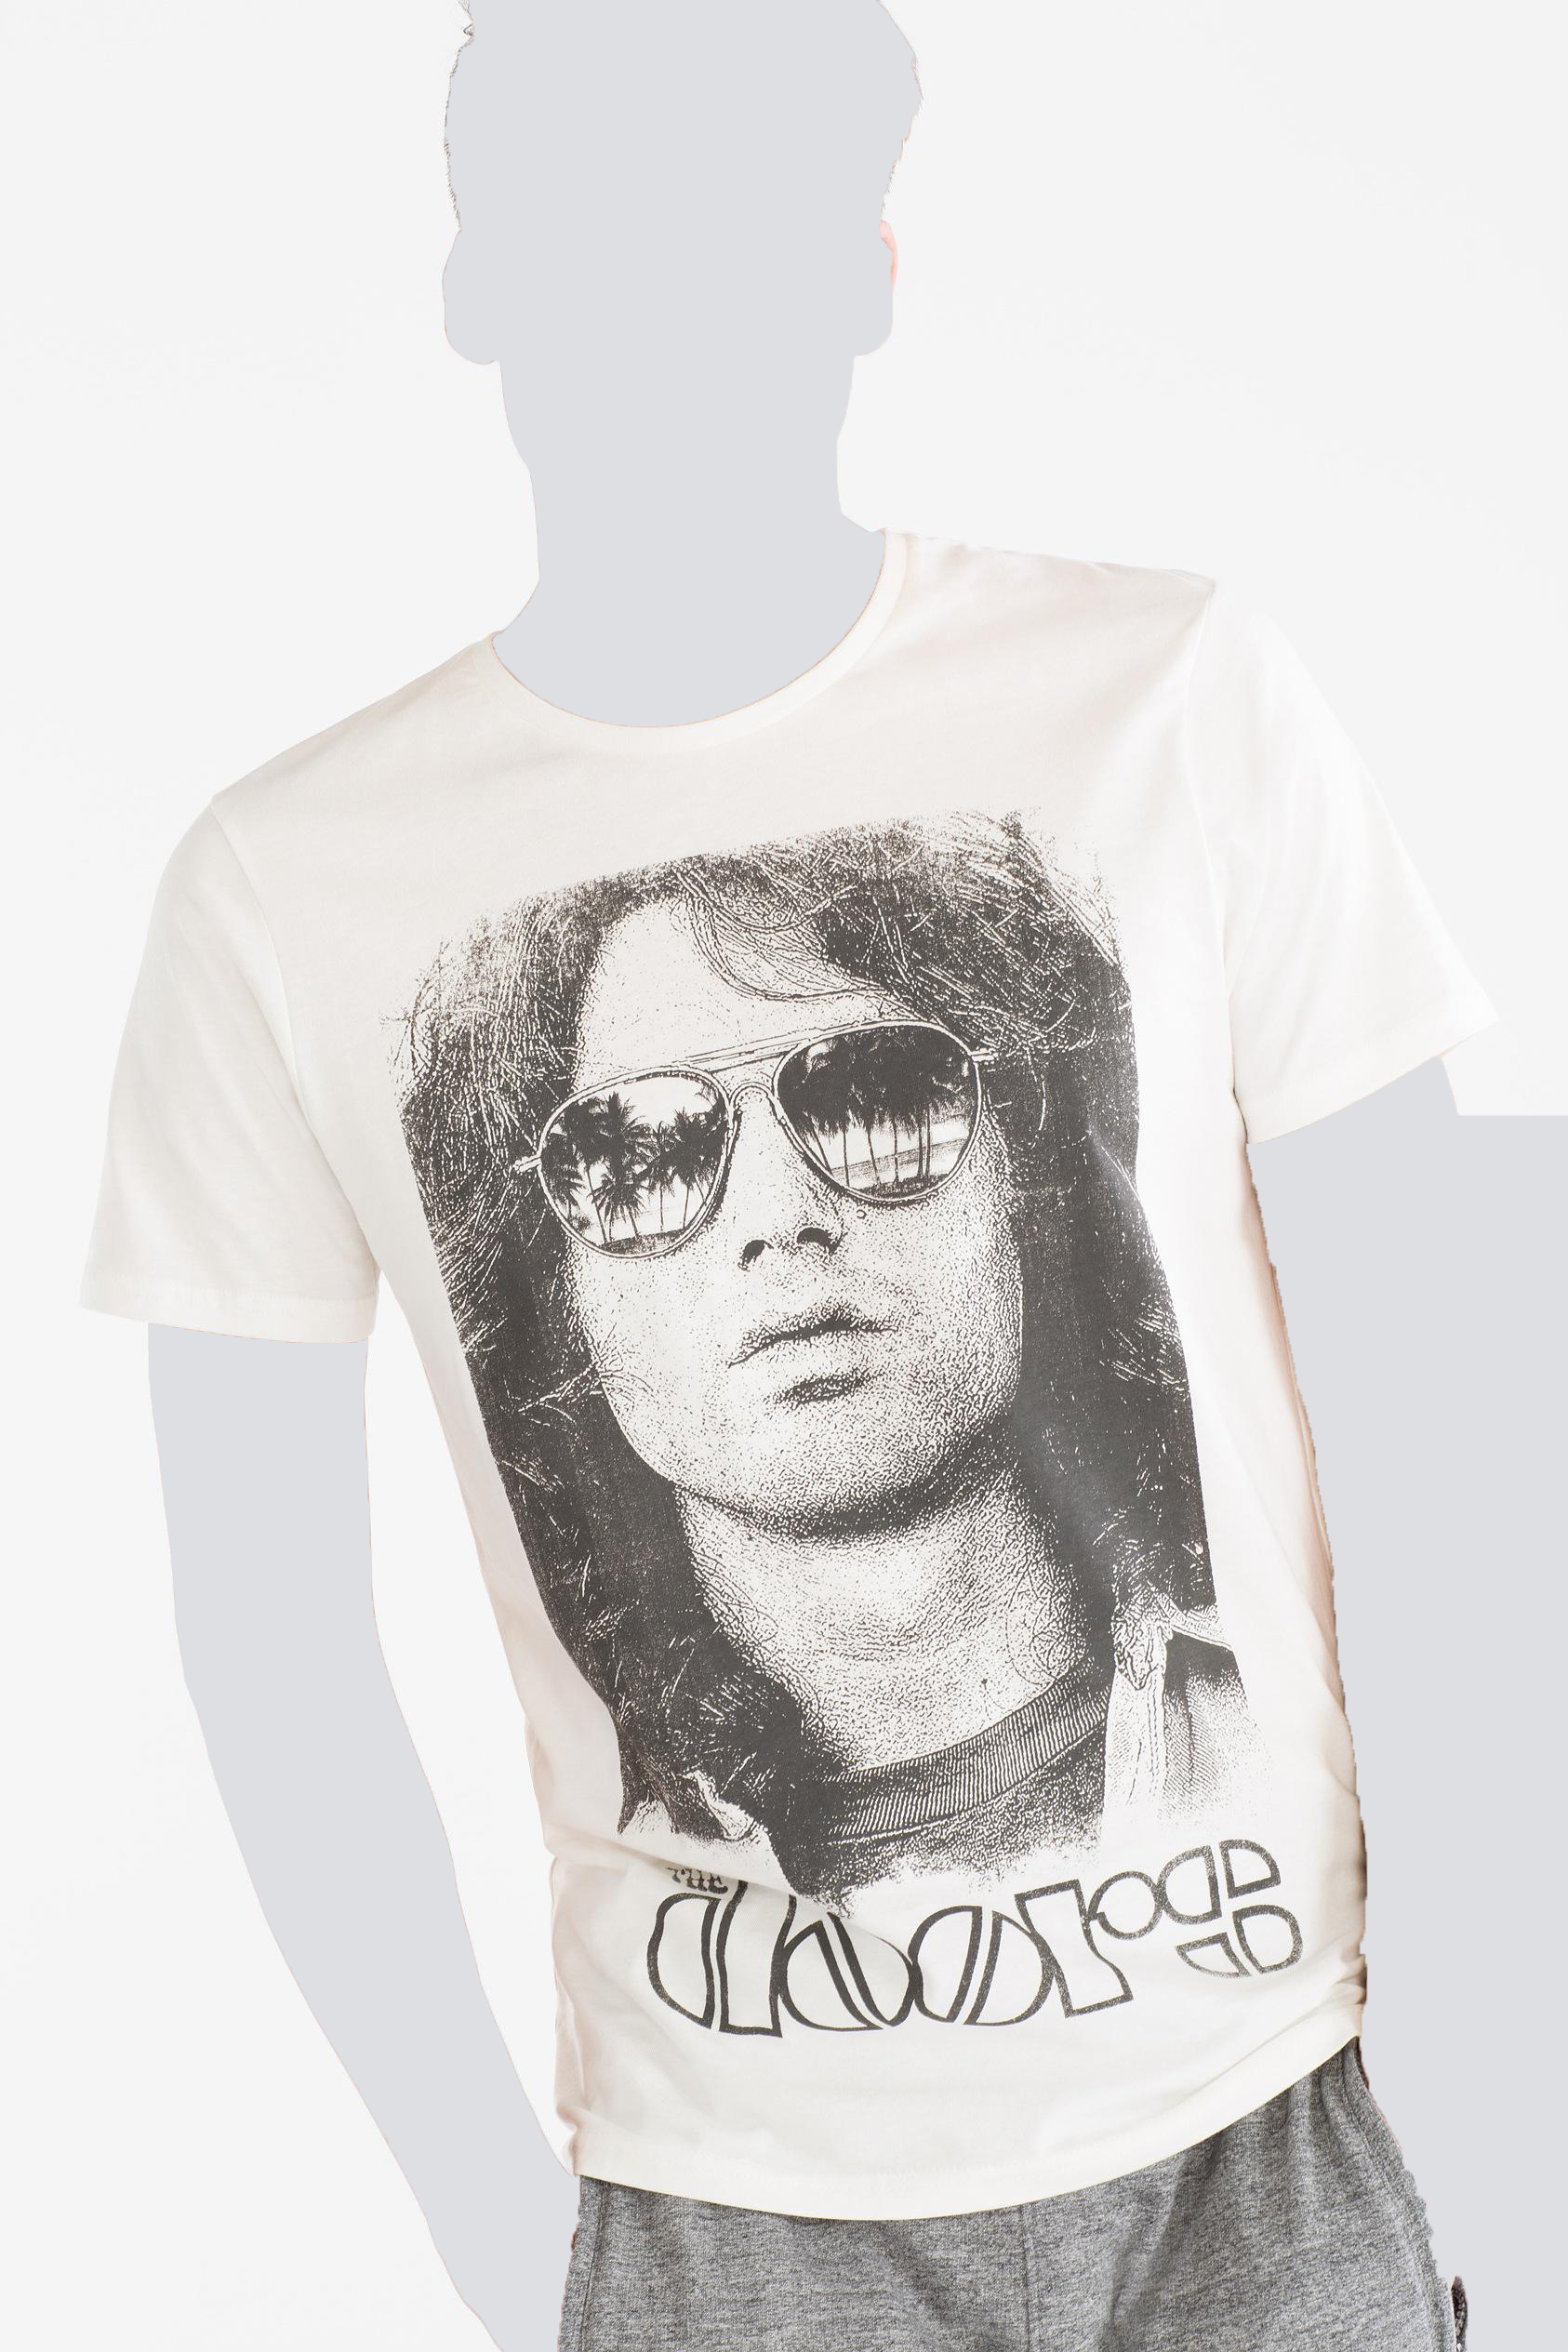teeshirt: (84, 514, 1536, 2215)
